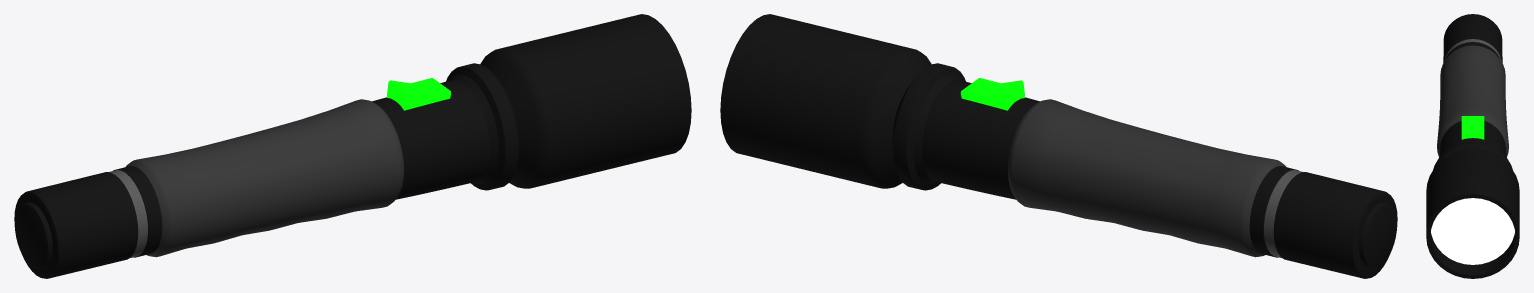
File: FLASHLIGHT.glb
The picture shows the model from 3 angles, left to right: view 1: azimuth 30°, elevation 25°; view 2: azimuth 150°, elevation 25°; view 3: azimuth 270°, elevation 25°; orthographic projection. The views are drawn at different scales.
Visible parts, largest first — view 1: FLASH; view 2: FLASH; view 3: FLASH.
Part boxes in pixels (x1,y1,x2,y2): FLASH: (14, 14, 691, 278); FLASH: (720, 14, 1397, 278); FLASH: (1426, 14, 1519, 278).
Size of the model in its own units: 0.7466 by 0.1488 by 0.1488.
